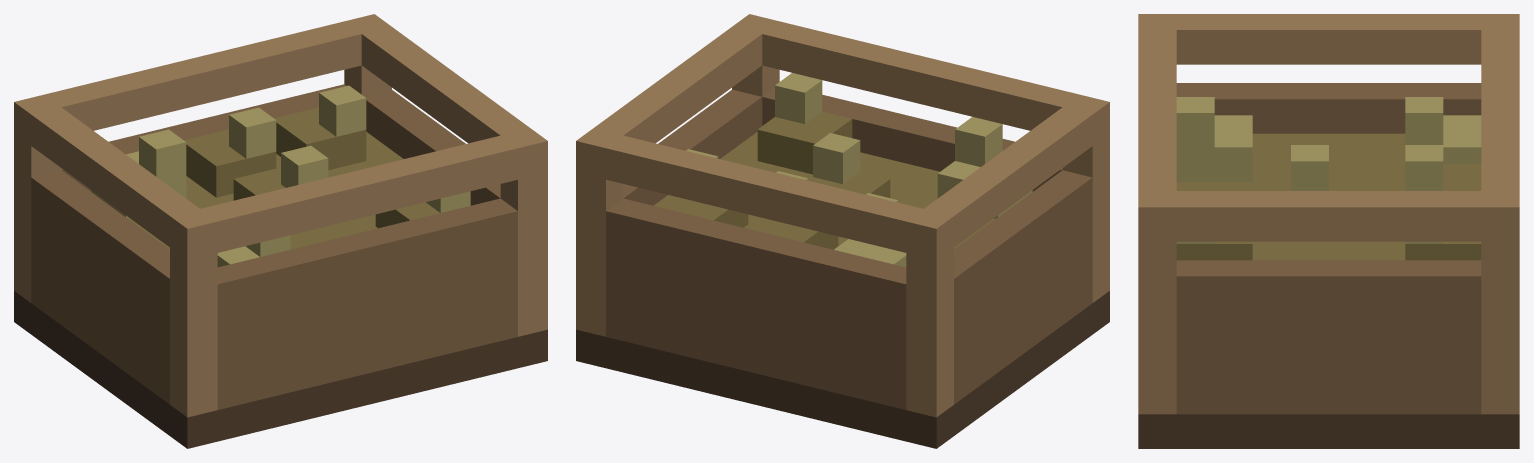
File: pig_tail_seed_half.glb
3 views of the same model, side by side, from view 1: azimuth 30°, elevation 25°; view 2: azimuth 150°, elevation 25°; view 3: azimuth 270°, elevation 25° (orthographic). The views are drawn at different scales.
Parts seen in each view (by area): view 1: VoxelVisual; view 2: VoxelVisual; view 3: VoxelVisual.
Boxes of the visible parts, x1=… form: VoxelVisual: x1=14, y1=14, x2=547, y2=448; VoxelVisual: x1=576, y1=14, x2=1109, y2=448; VoxelVisual: x1=1138, y1=14, x2=1519, y2=448.
Size of what is drawn, in the model's own units: 0.75 by 0.4375 by 0.625.
